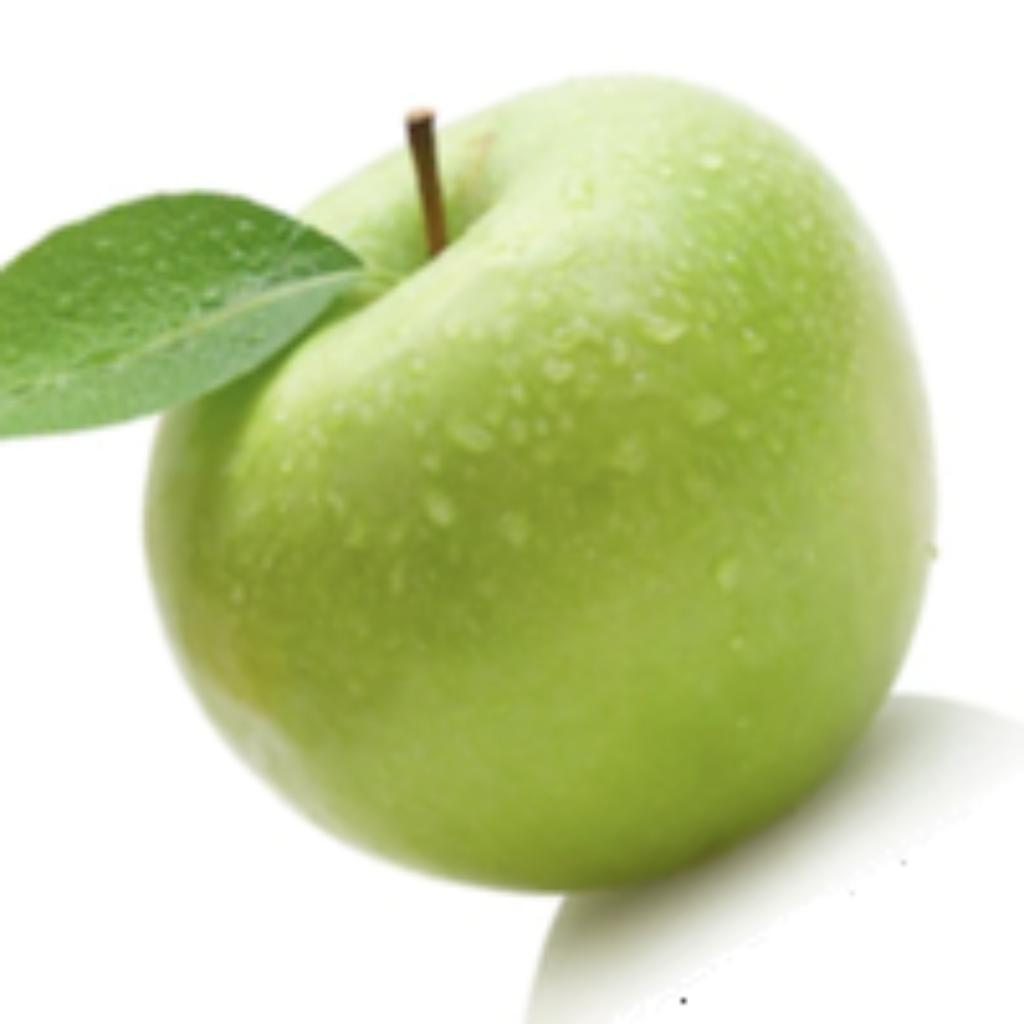apple: (0, 67, 1019, 1019)
